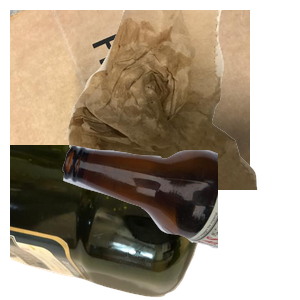cardboard: (10, 10, 250, 190)
glass: (60, 142, 300, 300)
plastic: (10, 145, 213, 300)
trash: (65, 10, 300, 190)
